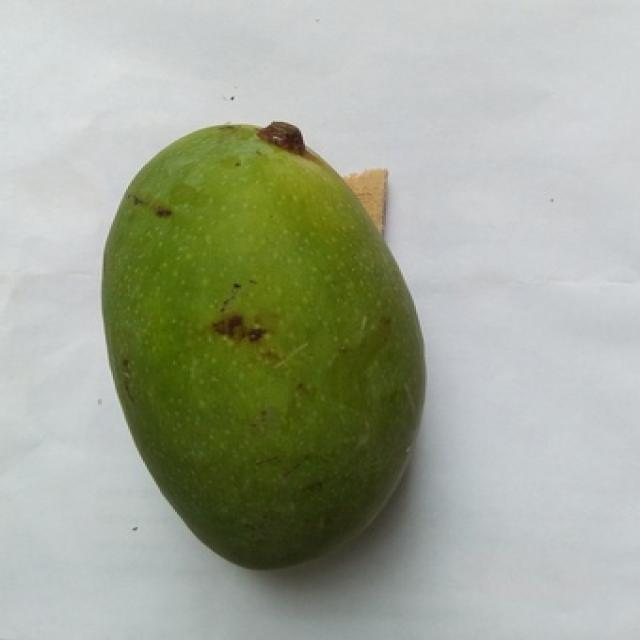Mango: (102, 127, 422, 567)
